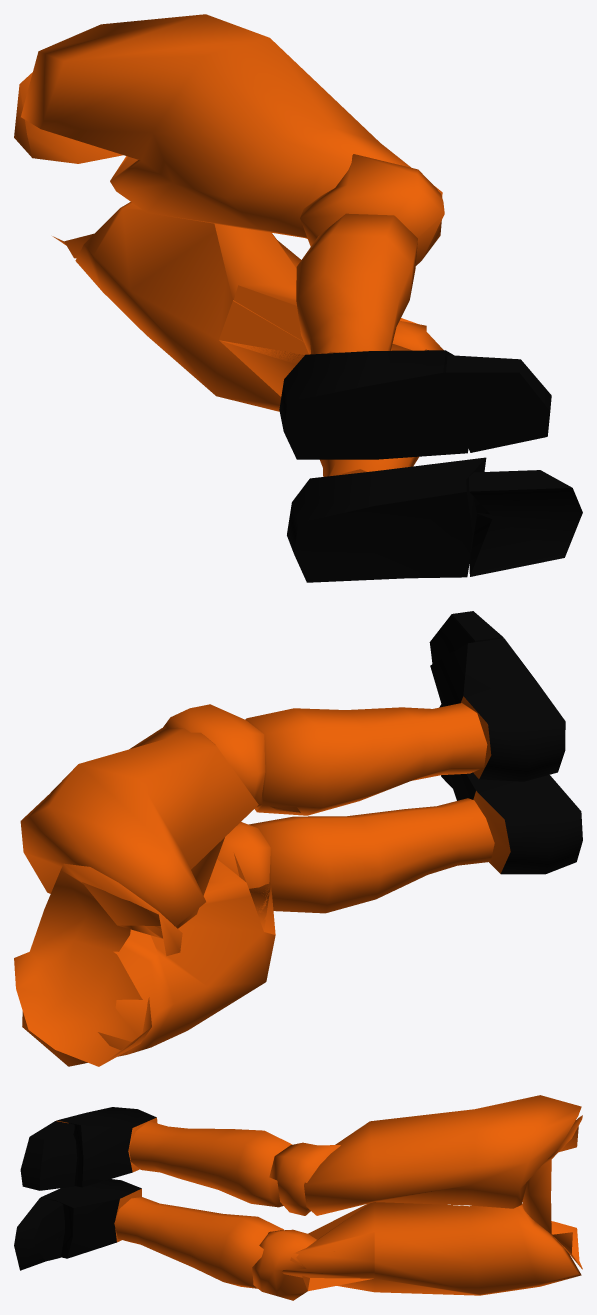
Rendered from SlidingLegsFinal 1.fbx.
3 views of the same model, one above another, from view 1: azimuth 30°, elevation 25°; view 2: azimuth 150°, elevation 25°; view 3: azimuth 270°, elevation 25° (orthographic). The views are drawn at different scales.
Parts seen in each view (by area): view 1: DummyMesh; view 2: DummyMesh; view 3: DummyMesh.
Boxes of the visible parts, bbox=[...] form: DummyMesh: bbox=[14, 14, 582, 582]; DummyMesh: bbox=[14, 611, 582, 1066]; DummyMesh: bbox=[14, 1095, 582, 1300].
Bounding box in the file's own units: 4405 × 3940 × 10858.
